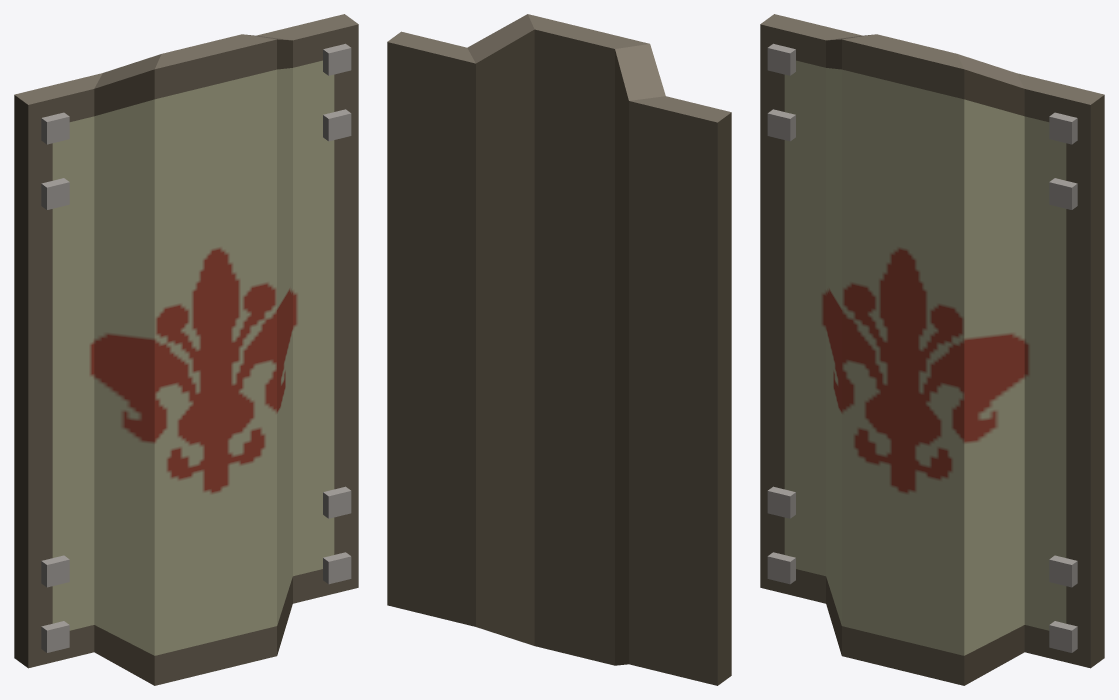
Rendered from SF_Wep_TowerShield_012.fbx.
3 views of the same model, side by side, from view 1: azimuth 30°, elevation 25°; view 2: azimuth 150°, elevation 25°; view 3: azimuth 330°, elevation 25° (orthographic).
Visible parts, largest first — view 1: SF_Wep_TowerShield_012; view 2: SF_Wep_TowerShield_012; view 3: SF_Wep_TowerShield_012.
Part boxes in pixels (<box>): SF_Wep_TowerShield_012: <box>14,14,358,685</box>; SF_Wep_TowerShield_012: <box>387,14,731,685</box>; SF_Wep_TowerShield_012: <box>760,14,1104,685</box>.
Bounding box in the file's own units: 1.33 × 2.37 × 0.2542.
